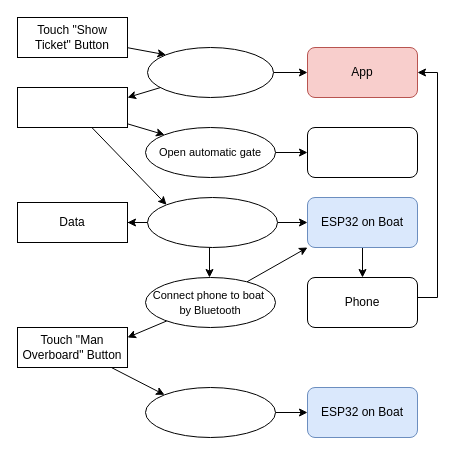
Image size: 463x455. Some labels were removed from this diagram. Here are the shapes that lost their labels. From the top down, the centre of each, then its label:
the point at 210,72: Generate and Show Ticket
the point at 72,107: Scanning of QR code
the point at 362,152: Automatic Gate
the point at 212,222: Gather and store ticket data
the point at 210,412: Stop Boat
